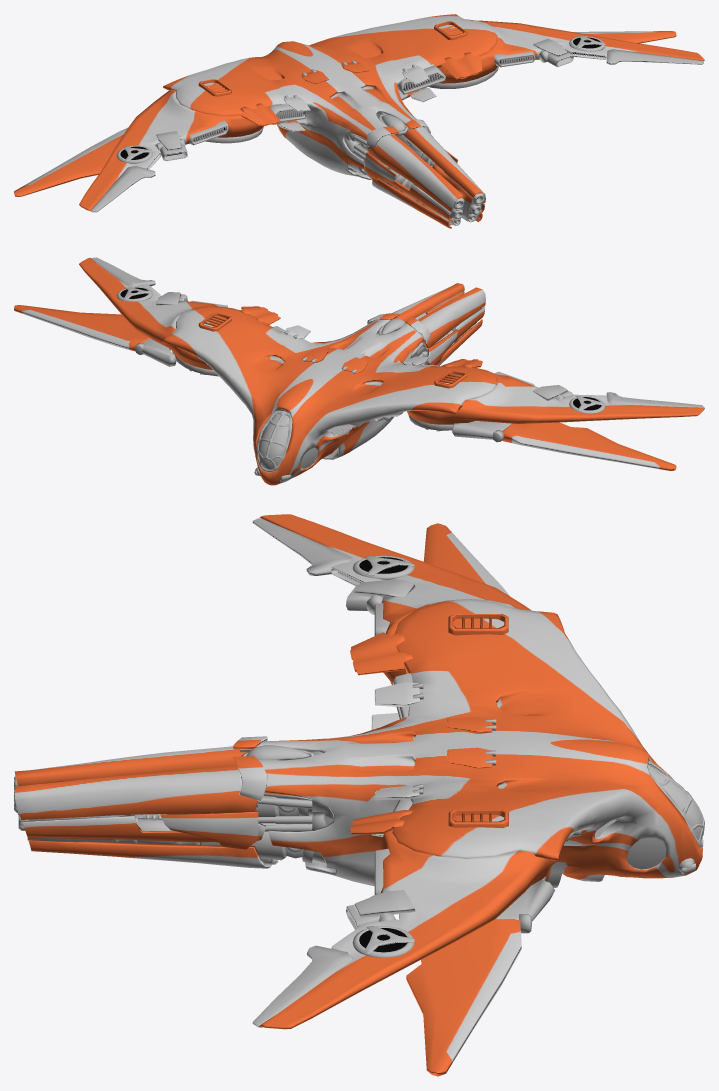
Rendered from gog.obj.
3 renders of one model, top to bottom at view 1: azimuth 30°, elevation 25°; view 2: azimuth 150°, elevation 25°; view 3: azimuth 270°, elevation 25°, orthographic. The views are drawn at different scales.
Parts seen in each view (by area): view 1: Benatar_UVmapped.Shape_Benatar_UVmapped; view 2: Benatar_UVmapped.Shape_Benatar_UVmapped; view 3: Benatar_UVmapped.Shape_Benatar_UVmapped.
Part boxes in pixels (x1,y1,x2,y2): Benatar_UVmapped.Shape_Benatar_UVmapped: (14, 14, 704, 228); Benatar_UVmapped.Shape_Benatar_UVmapped: (14, 257, 704, 485); Benatar_UVmapped.Shape_Benatar_UVmapped: (14, 514, 704, 1076).
Size of the model in its own units: 105 by 14.08 by 55.86.
